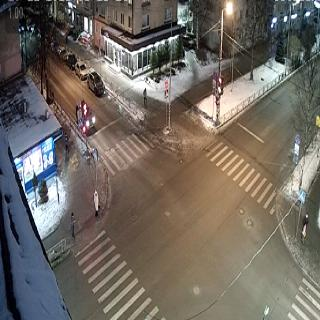small-vehicle: (74, 98, 95, 130), (86, 66, 105, 97), (75, 60, 87, 80), (66, 51, 77, 68), (57, 44, 68, 60)
